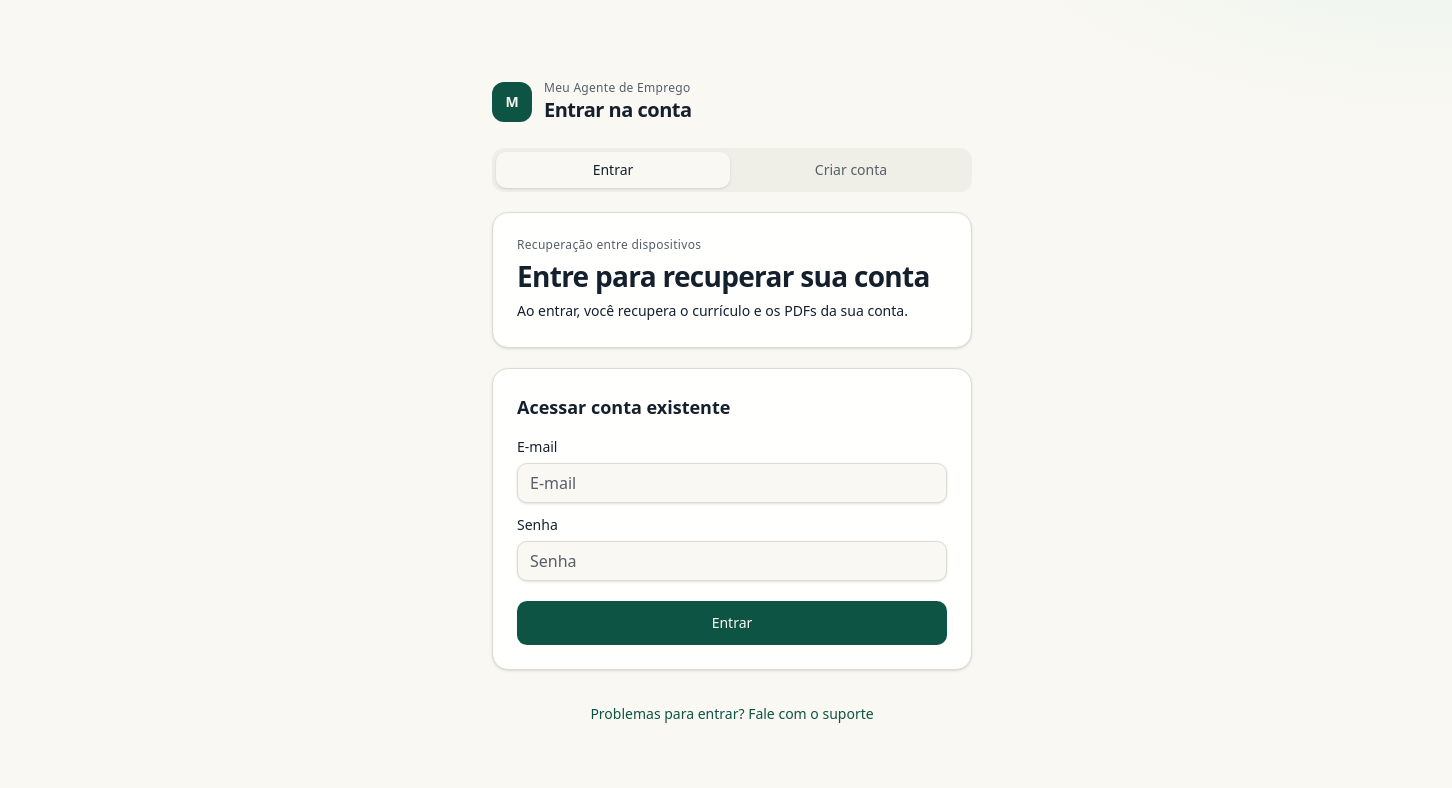
W3a assinatura Essencial › 1b. URL que nao é o Checkout vira erro generico e nao redireciona
Type "ada@example.com" into the field with test id "login-email" at (732, 483), box [517,463,947,503]
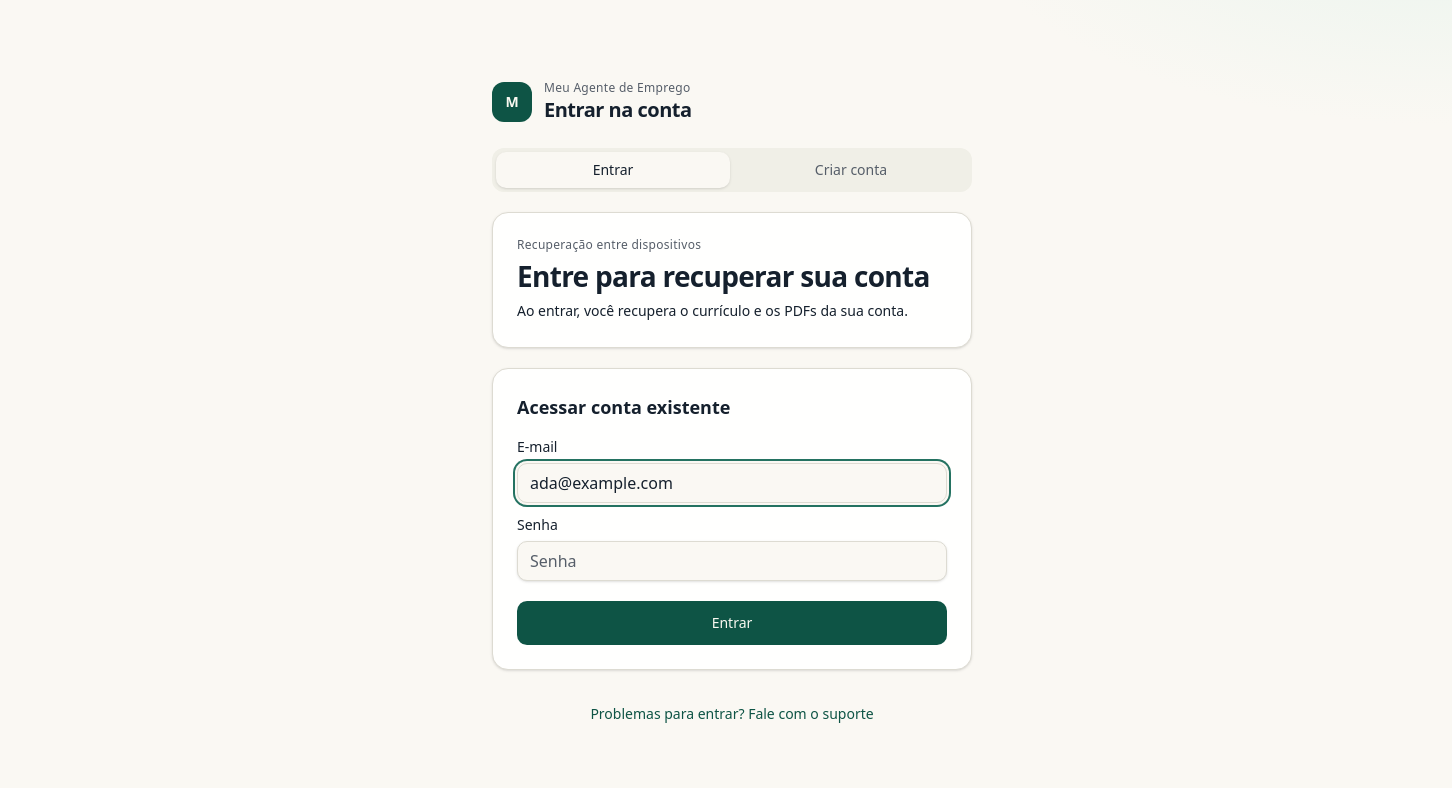
Type "senha-segura" into the password field with test id "login-password" at (732, 561), box [517,541,947,581]
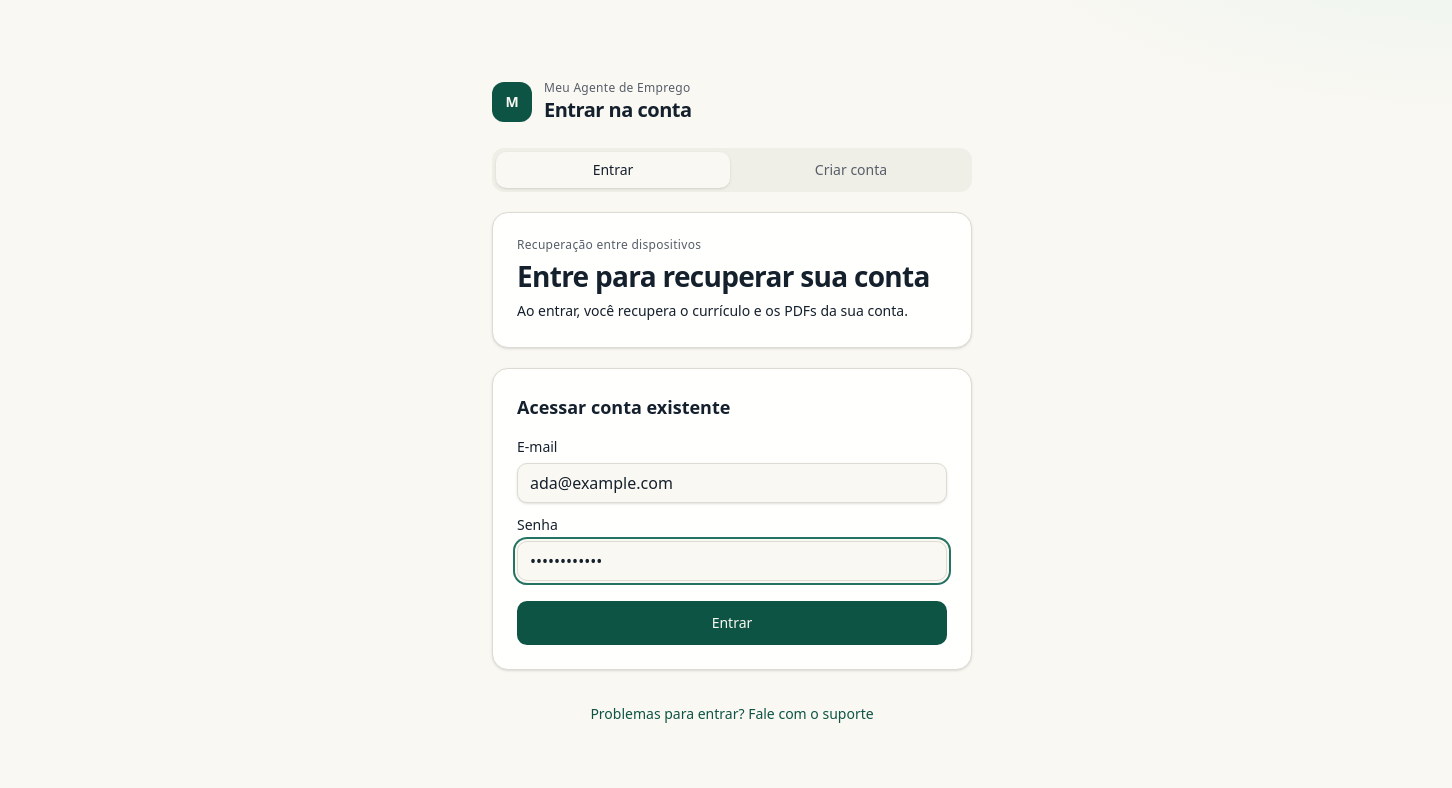
Click the button with test id "login-submit" at (732, 623), box [517,601,947,645]
(page scrolled)
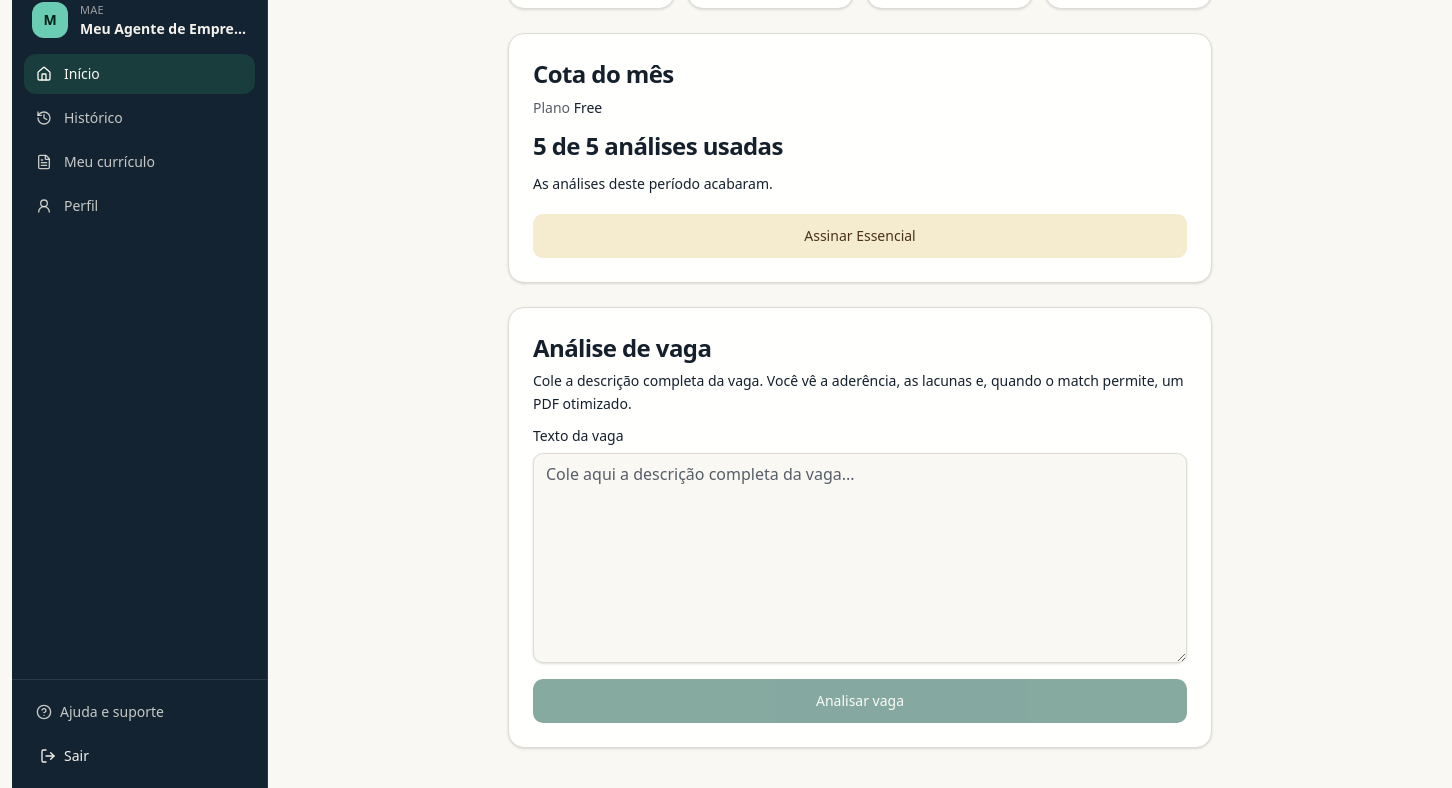
Expected: the element with test id "processar-panel" is shown, [508,307,1212,748]
Type "Vaga para desenvolvedor Python com requisitos e responsabilidades." into the text box with test id "processar-texto" at (860, 558), box [533,453,1187,663]
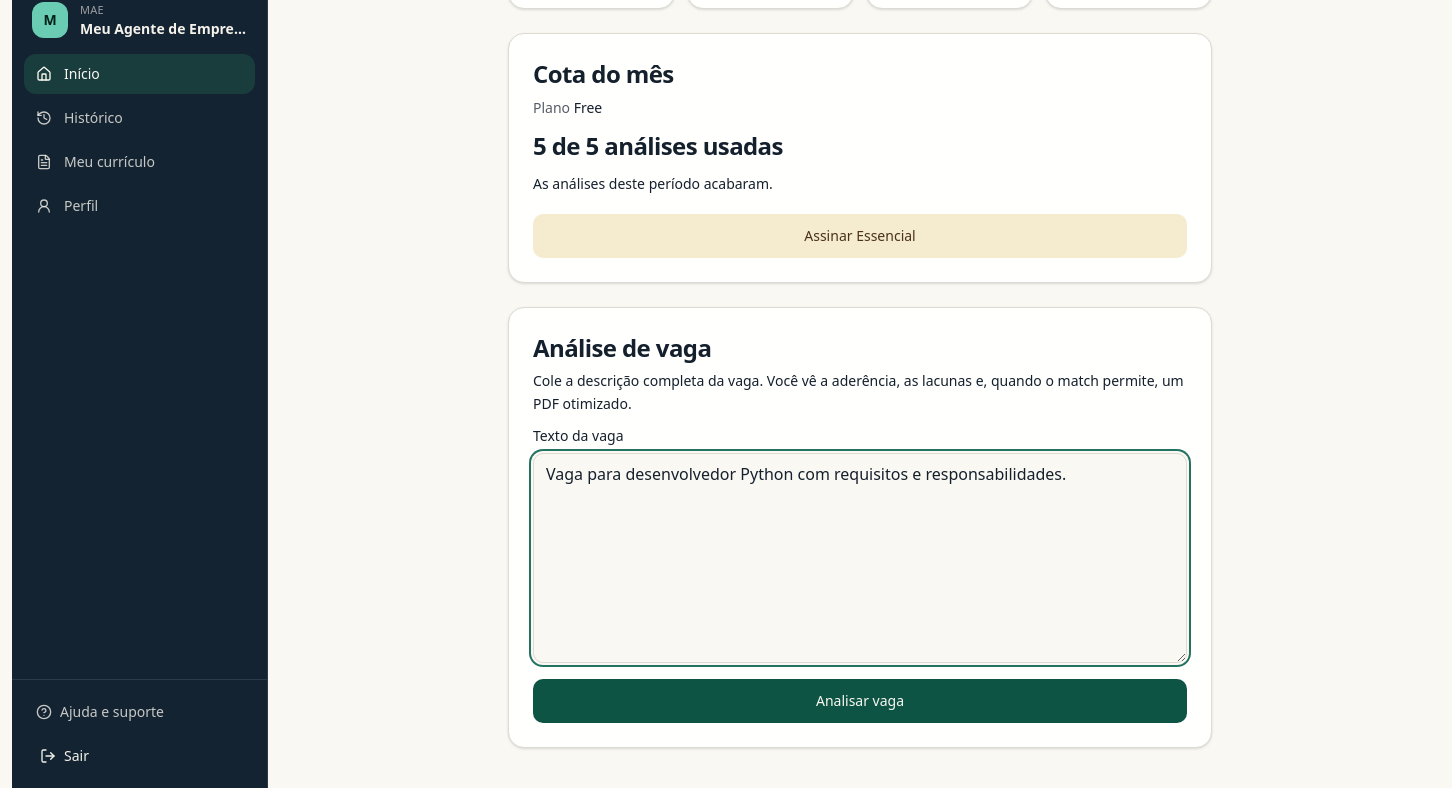
Click the button with test id "processar-submit" at (860, 701), box [533,679,1187,723]
(page scrolled)
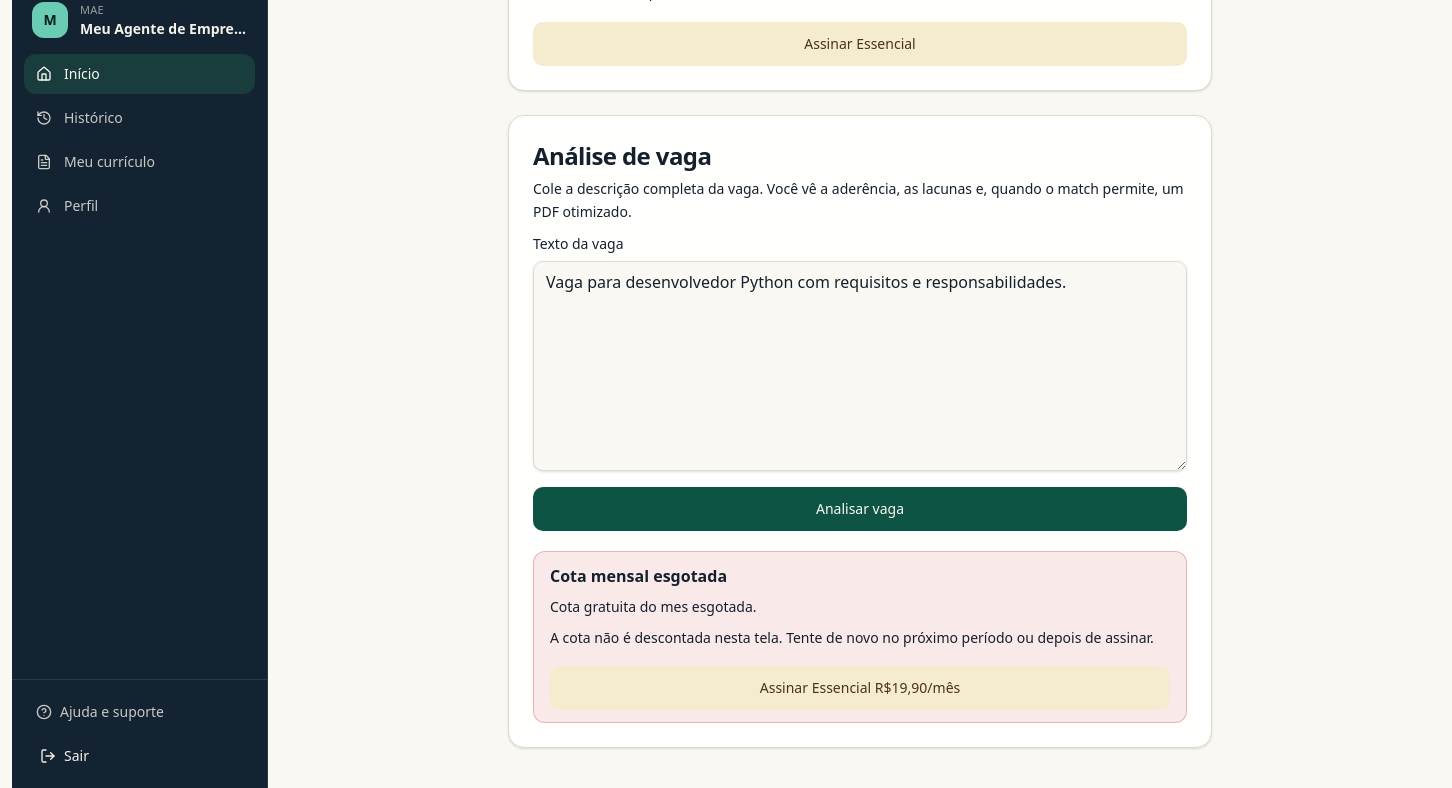
Expected: the message with test id "quota-block" is shown, [533,551,1187,723]
Click the button with test id "subscribe-essencial" at (860, 688), box [550,666,1170,710]
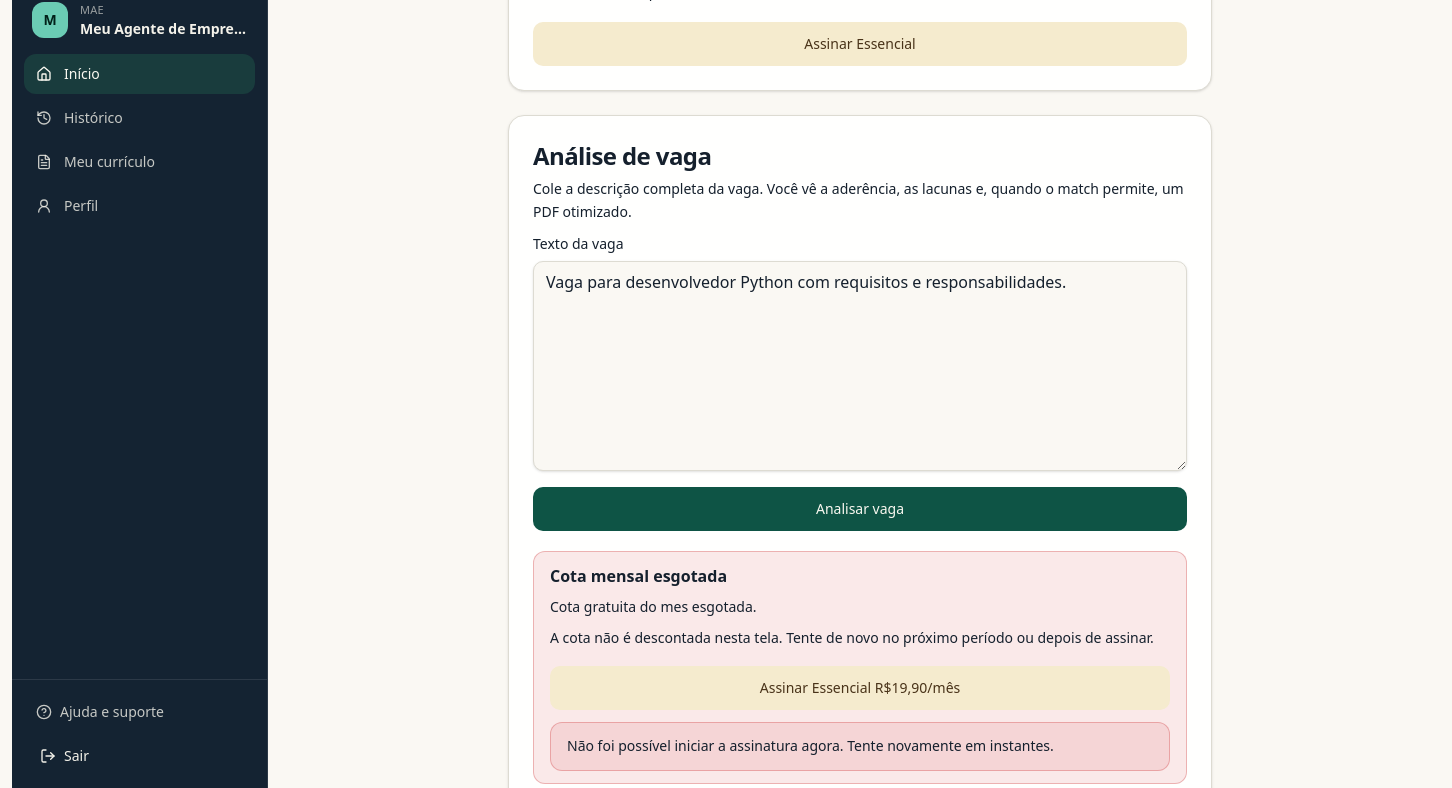
Expected: the message with test id "subscribe-error" reads "Não foi possível iniciar a assinatura agora. Tente novamente em instantes.", [567,736,1054,755]
